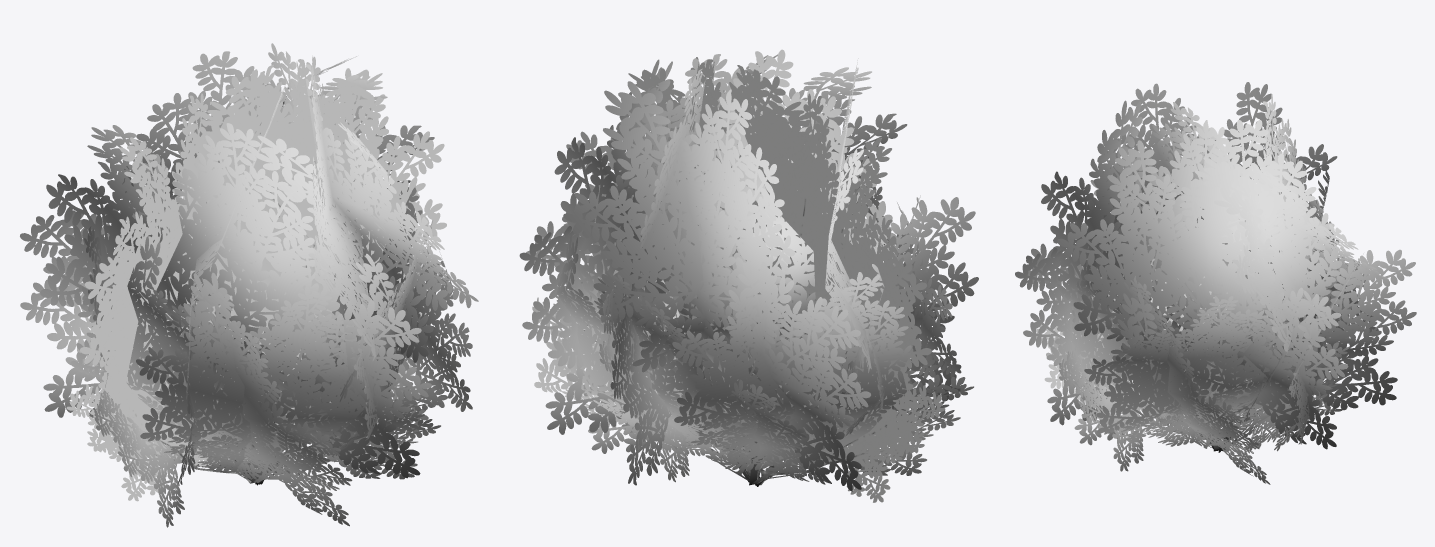
The model's file is Bush.fbx.
The picture shows the model from 3 angles, left to right: view 1: azimuth 30°, elevation 25°; view 2: azimuth 150°, elevation 25°; view 3: azimuth 270°, elevation 25°; orthographic projection. The views are drawn at different scales.
Parts seen in each view (by area): view 1: Bush_LOD0, Bush_Billboard; view 2: Bush_LOD0, Bush_Billboard; view 3: Bush_LOD0.
Part boxes in pixels (box(x1,y1,x2,y2)): Bush_LOD0: box(20, 43, 478, 527); Bush_Billboard: box(66, 56, 446, 501); Bush_LOD0: box(519, 49, 978, 491); Bush_Billboard: box(563, 57, 945, 502); Bush_LOD0: box(1015, 82, 1416, 484).
Size of what is drawn, in the model's own units: 190 by 201 by 191.
